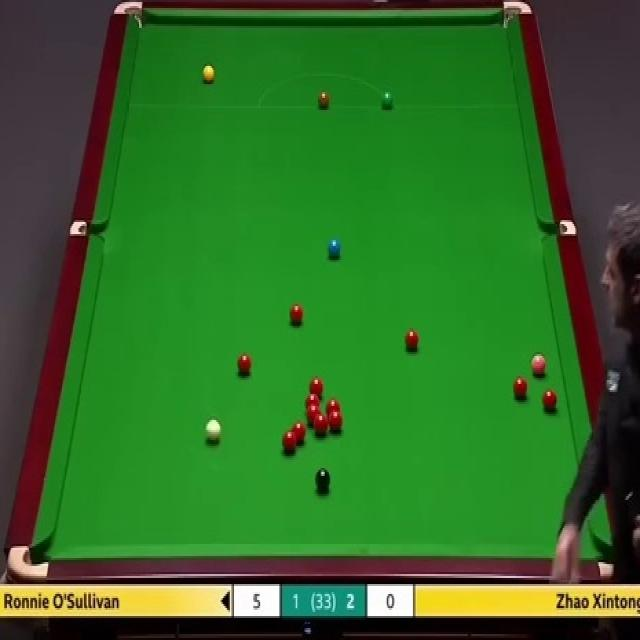pocket: (5, 540, 49, 578), (500, 0, 532, 31), (112, 0, 143, 29), (541, 221, 578, 237), (66, 220, 104, 235)
